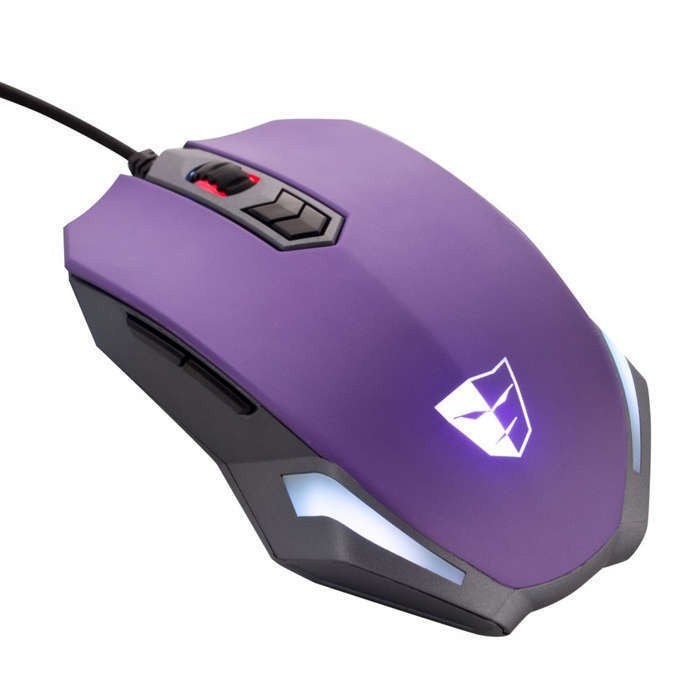mouse: (55, 101, 651, 638)
